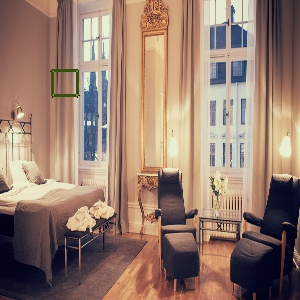square: (48, 67, 81, 100)
